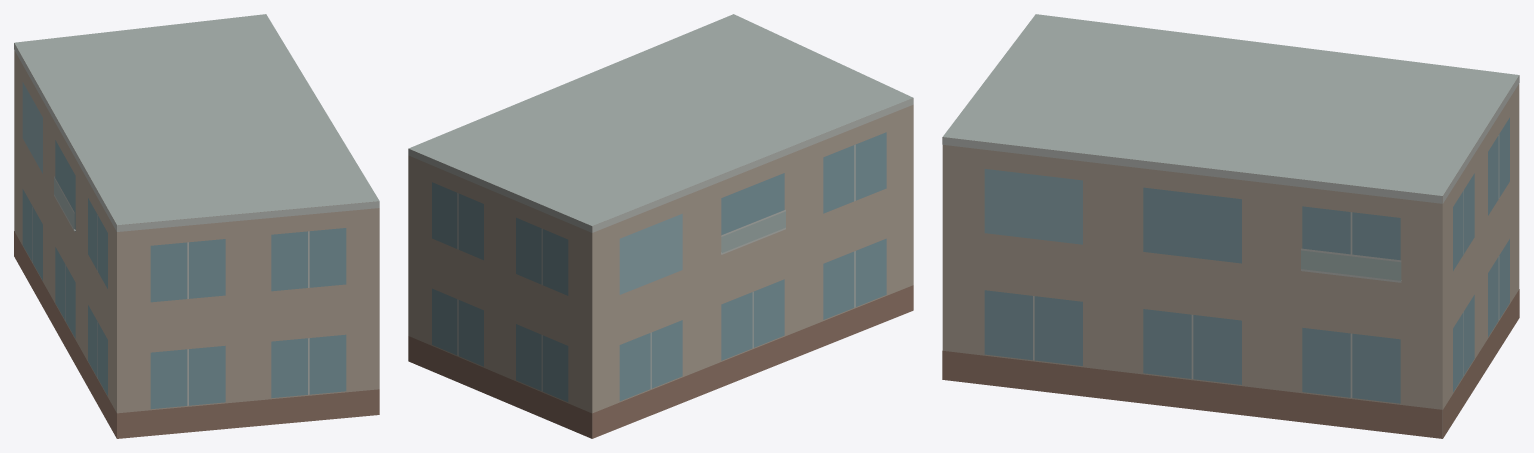
File: survey-upis-32873384.glb
The picture shows the model from 3 angles, left to right: view 1: azimuth 30°, elevation 25°; view 2: azimuth 150°, elevation 25°; view 3: azimuth 270°, elevation 25°; orthographic projection. The views are drawn at different scales.
Visible parts, largest first — view 1: survey-upis-32873384.tmp; view 2: survey-upis-32873384.tmp; view 3: survey-upis-32873384.tmp.
Part boxes in pixels (x1,y1,x2,y2): survey-upis-32873384.tmp: (14, 14, 379, 438); survey-upis-32873384.tmp: (408, 14, 913, 438); survey-upis-32873384.tmp: (942, 14, 1519, 438).
Bounding box in the file's own units: 12.23 × 7.6 × 16.38.
